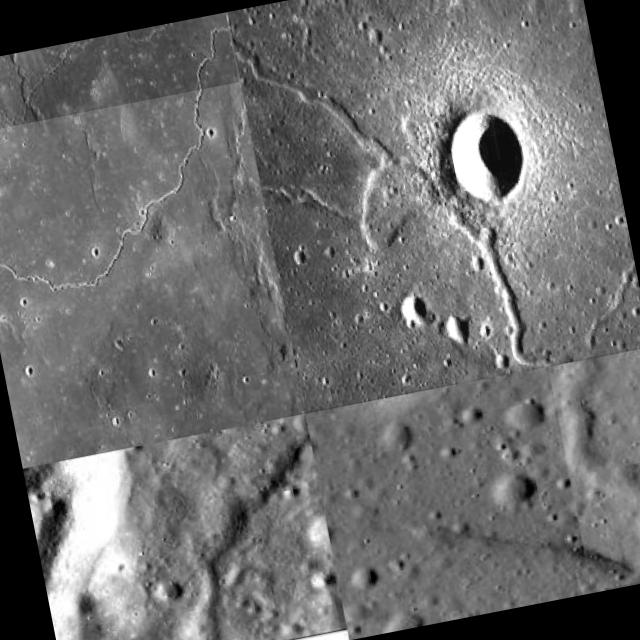rille: (227, 0, 640, 412), (0, 22, 303, 467), (0, 12, 239, 136), (548, 349, 640, 591)
